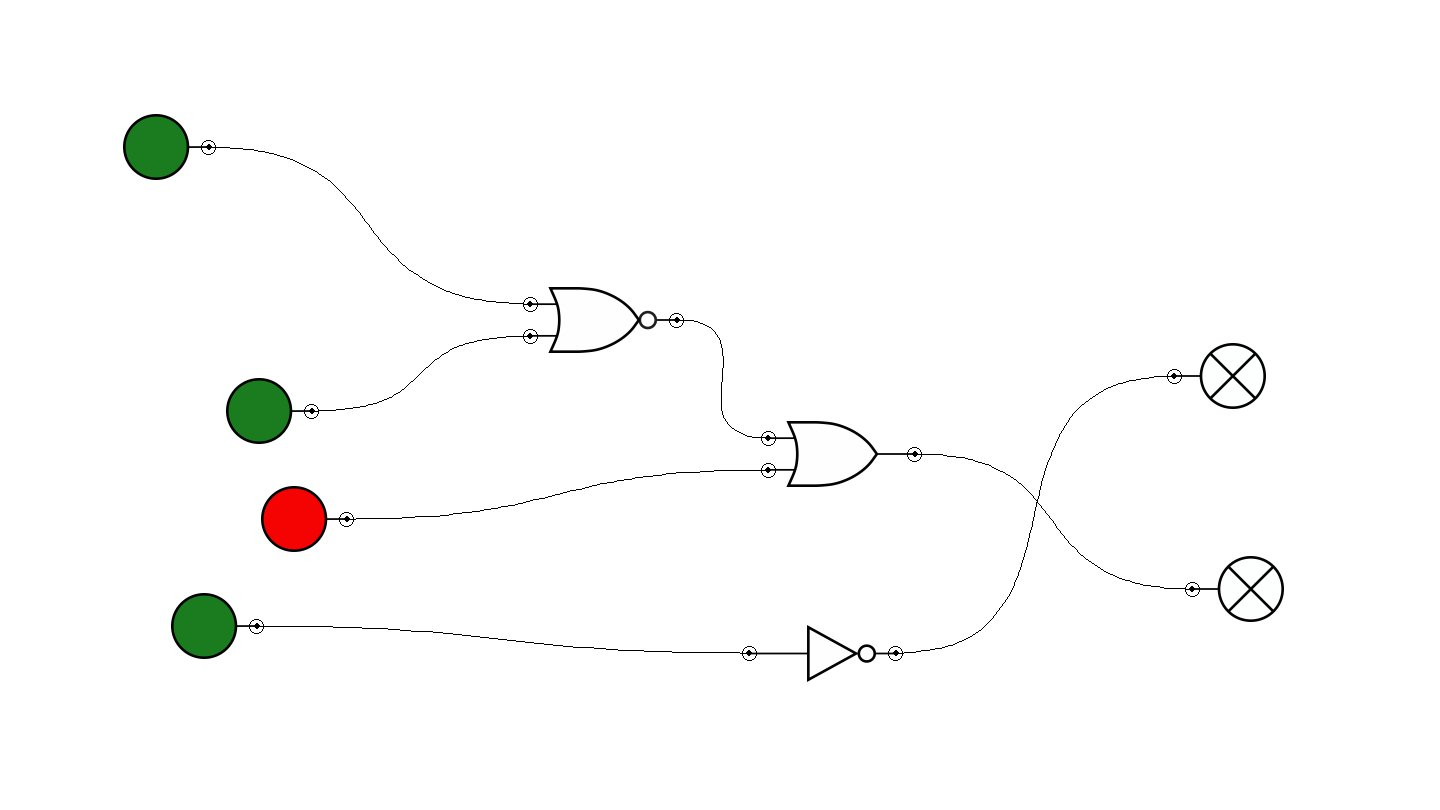bulb: (1185, 556, 1284, 622), (1167, 343, 1266, 409)
nor: (523, 287, 684, 353)
not: (742, 625, 903, 682)
or: (761, 421, 922, 487)
switch_False: (261, 486, 354, 552)
switch_True: (123, 114, 216, 180), (171, 593, 264, 659), (226, 378, 319, 444)
